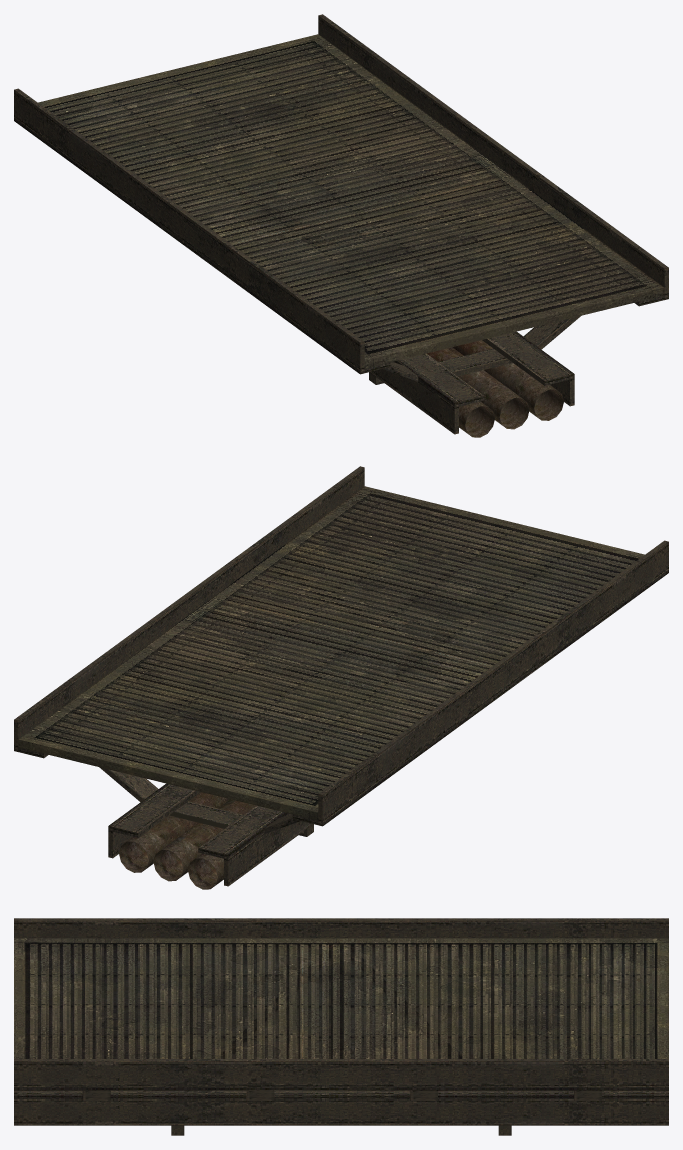
File: platform_bx_2.glb
3 views of the same model, one above another, from view 1: azimuth 30°, elevation 25°; view 2: azimuth 150°, elevation 25°; view 3: azimuth 270°, elevation 25° (orthographic). The views are drawn at different scales.
Parts seen in each view (by area): view 1: platform_bx_2; view 2: platform_bx_2; view 3: platform_bx_2.
Boxes of the visible parts, <box> form: platform_bx_2: <box>14,14,668,437</box>; platform_bx_2: <box>14,466,668,889</box>; platform_bx_2: <box>14,918,668,1135</box>.
Size of the model in its own units: 2.06 by 0.81 by 4.
3 materials, 3 textured.
